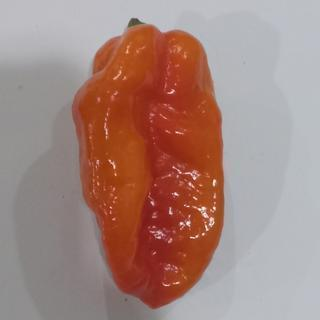Grade-A: (68, 17, 229, 313)
